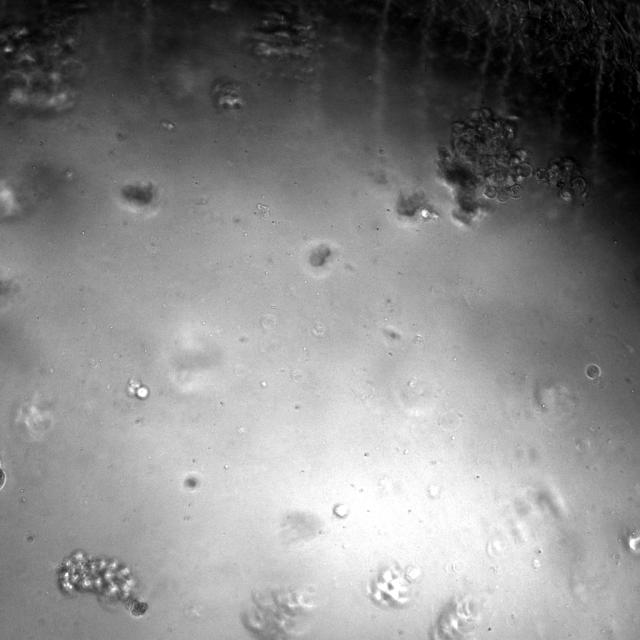organoid: (438, 108, 532, 224), (0, 14, 84, 113), (58, 550, 147, 615), (242, 586, 315, 639), (250, 0, 314, 59), (534, 157, 588, 204), (368, 563, 422, 606), (431, 595, 483, 639), (211, 76, 244, 109), (122, 181, 154, 205), (126, 378, 149, 400), (309, 244, 330, 267), (182, 472, 201, 491), (418, 207, 439, 220), (333, 503, 349, 518), (585, 364, 600, 379), (0, 465, 6, 490)
